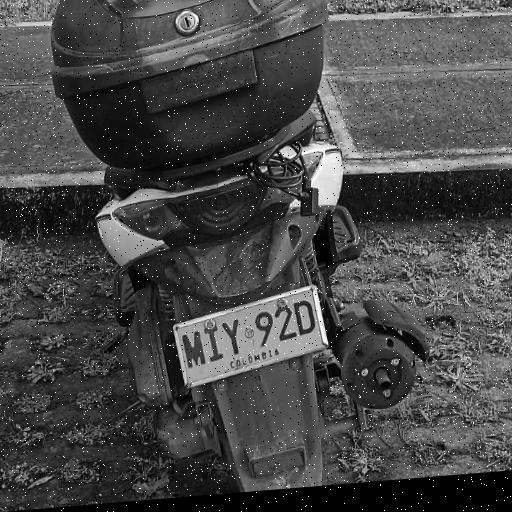placa: (174, 286, 328, 387)
